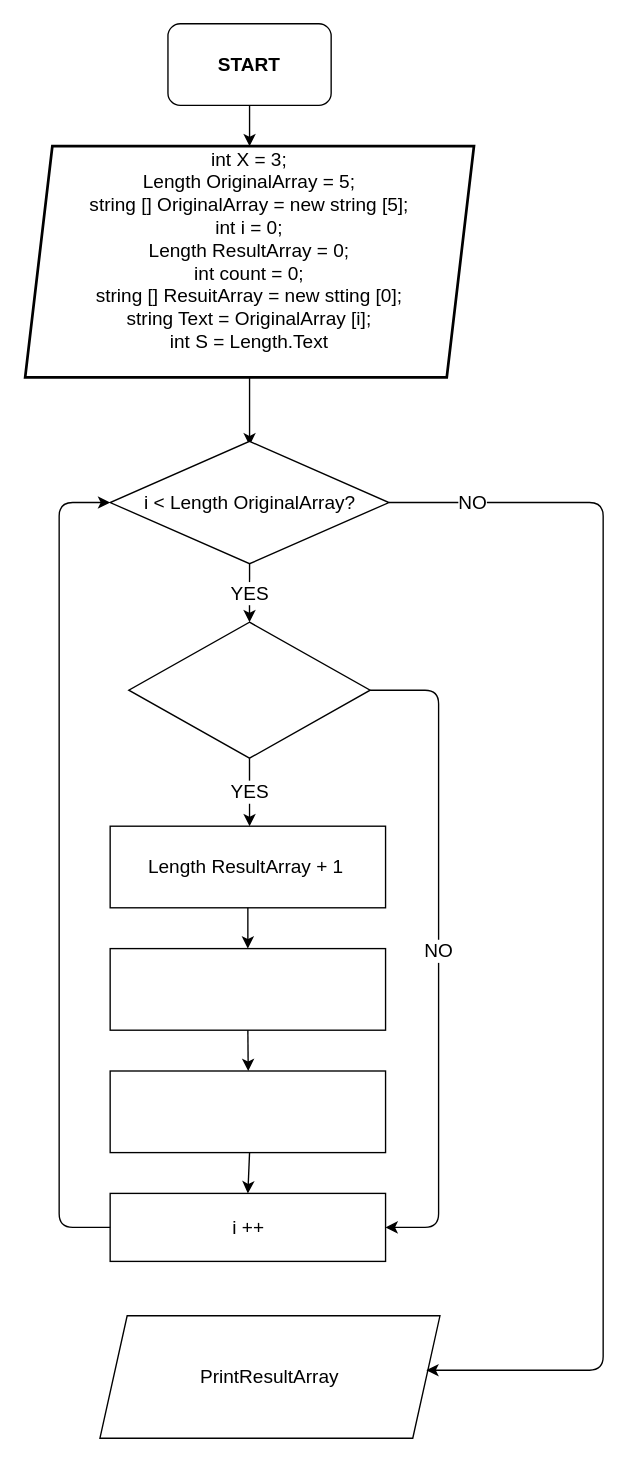
Image size: 638x1462. Some labels were removed from this diagram. Each missing label, with the centre of its shape:
"Count ++" belongs at (247,1111).
"ResultArray [count] = OriginalArray [i]" belongs at (247,988).
"S <= X?" belongs at (248,689).
